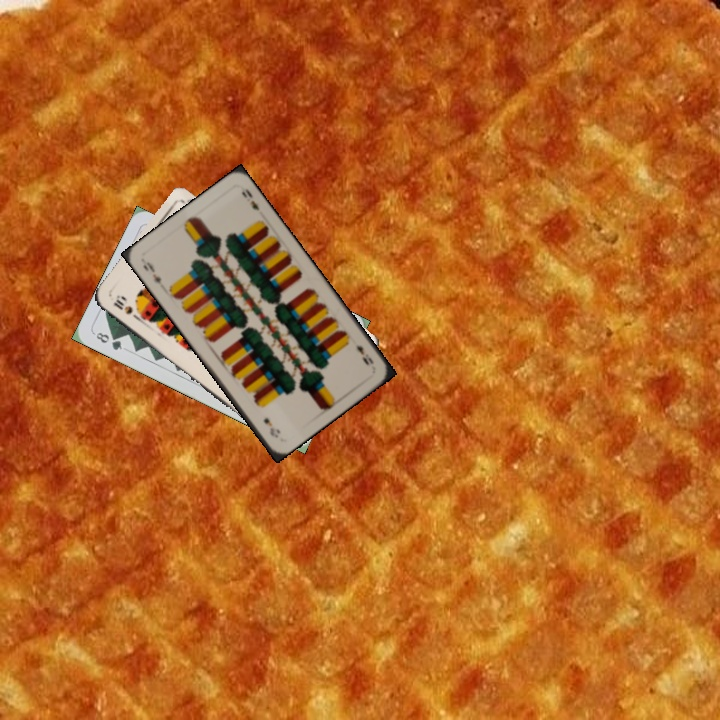E9: (139, 257, 164, 286), (352, 341, 376, 368)
G8: (92, 328, 125, 353)
S10: (109, 292, 142, 323)
